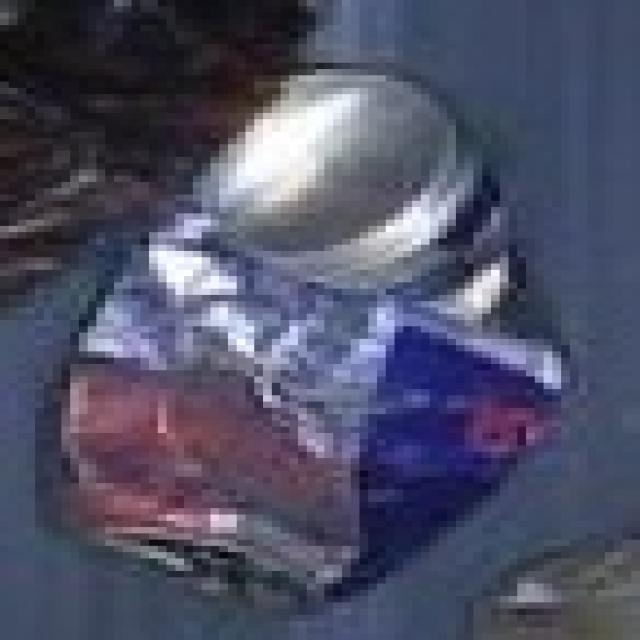can: (26, 15, 595, 640)
